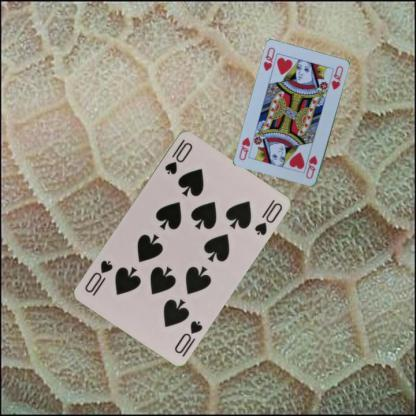10s: (162, 136, 194, 176), (172, 317, 204, 355)
Qh: (260, 44, 276, 72), (303, 153, 319, 180)
